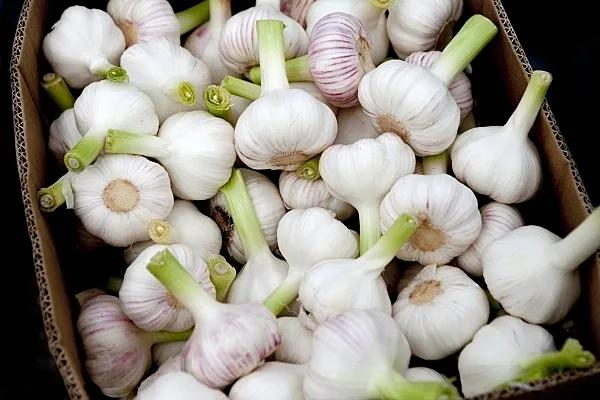garlic: (9, 2, 588, 392)
